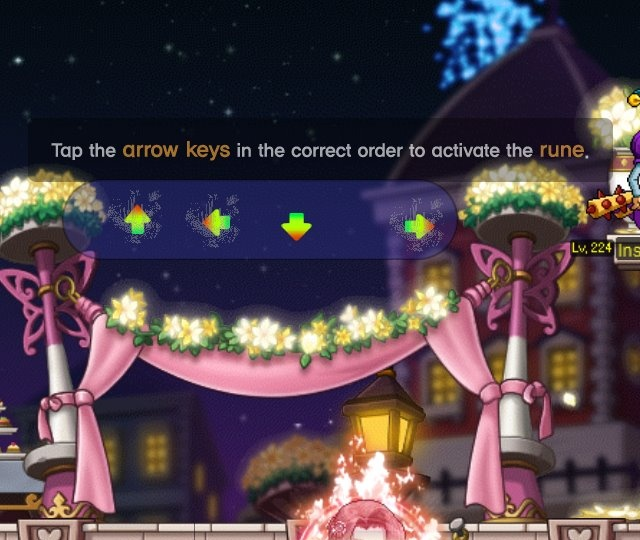down: (275, 205, 319, 247)
left: (195, 200, 239, 245)
right: (395, 210, 441, 248)
up: (117, 200, 159, 245)
